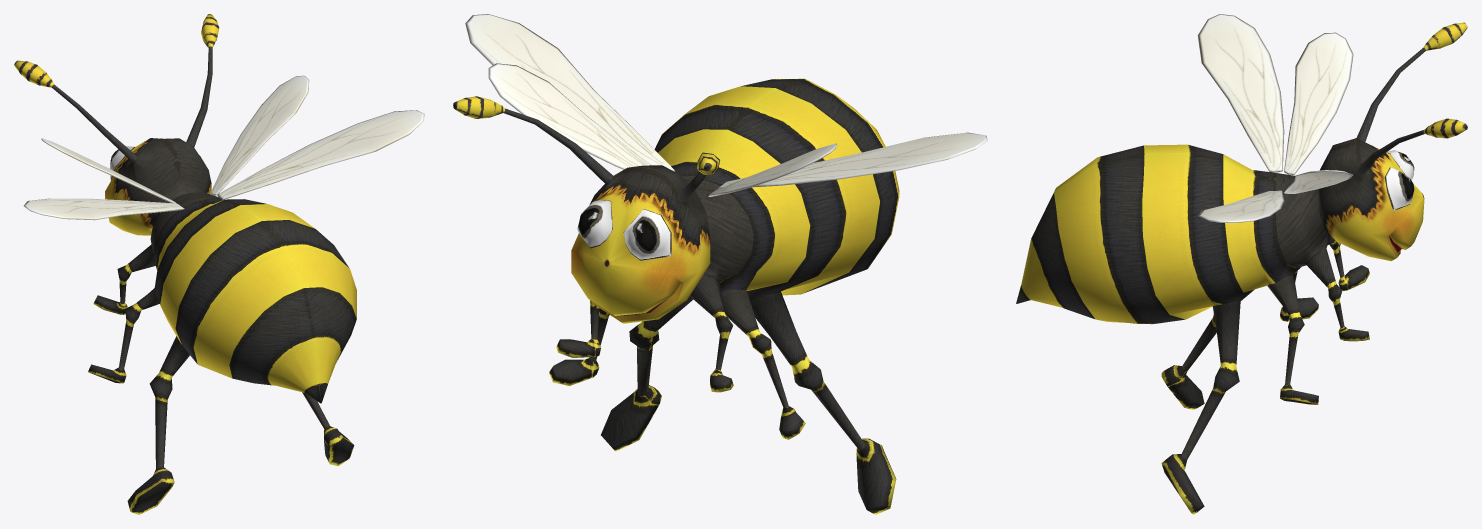
Rendered from 00BeeNoJoints.fbx.
3 views of the same model, side by side, from view 1: azimuth 30°, elevation 25°; view 2: azimuth 150°, elevation 25°; view 3: azimuth 270°, elevation 25° (orthographic). The views are drawn at different scales.
Parts seen in each view (by area): view 1: BEE_Body, BEE_Right_Wings, BEE_Left_Wings; view 2: BEE_Body, BEE_Right_Wings, BEE_Left_Wings; view 3: BEE_Body, BEE_Left_Wings, BEE_Right_Wings.
Boxes of the visible parts, <box> form: BEE_Body: <box>14,14,356,514</box>; BEE_Right_Wings: <box>210,75,424,199</box>; BEE_Left_Wings: <box>24,138,184,220</box>; BEE_Body: <box>453,78,899,514</box>; BEE_Right_Wings: <box>465,14,675,171</box>; BEE_Left_Wings: <box>708,132,987,196</box>; BEE_Body: <box>1016,22,1467,514</box>; BEE_Left_Wings: <box>1197,14,1353,174</box>; BEE_Right_Wings: <box>1198,170,1352,222</box>.
Bounding box in the file's own units: 69.45 × 60.69 × 63.75.
Materials: 1 (1 with a texture image).
